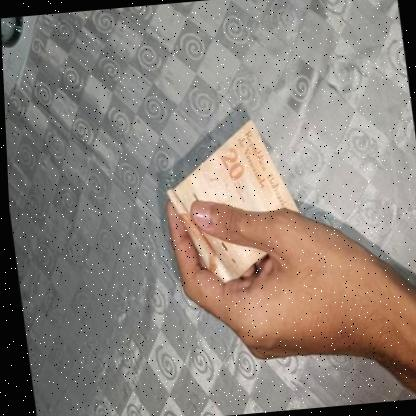vef_front: (156, 115, 307, 286)
